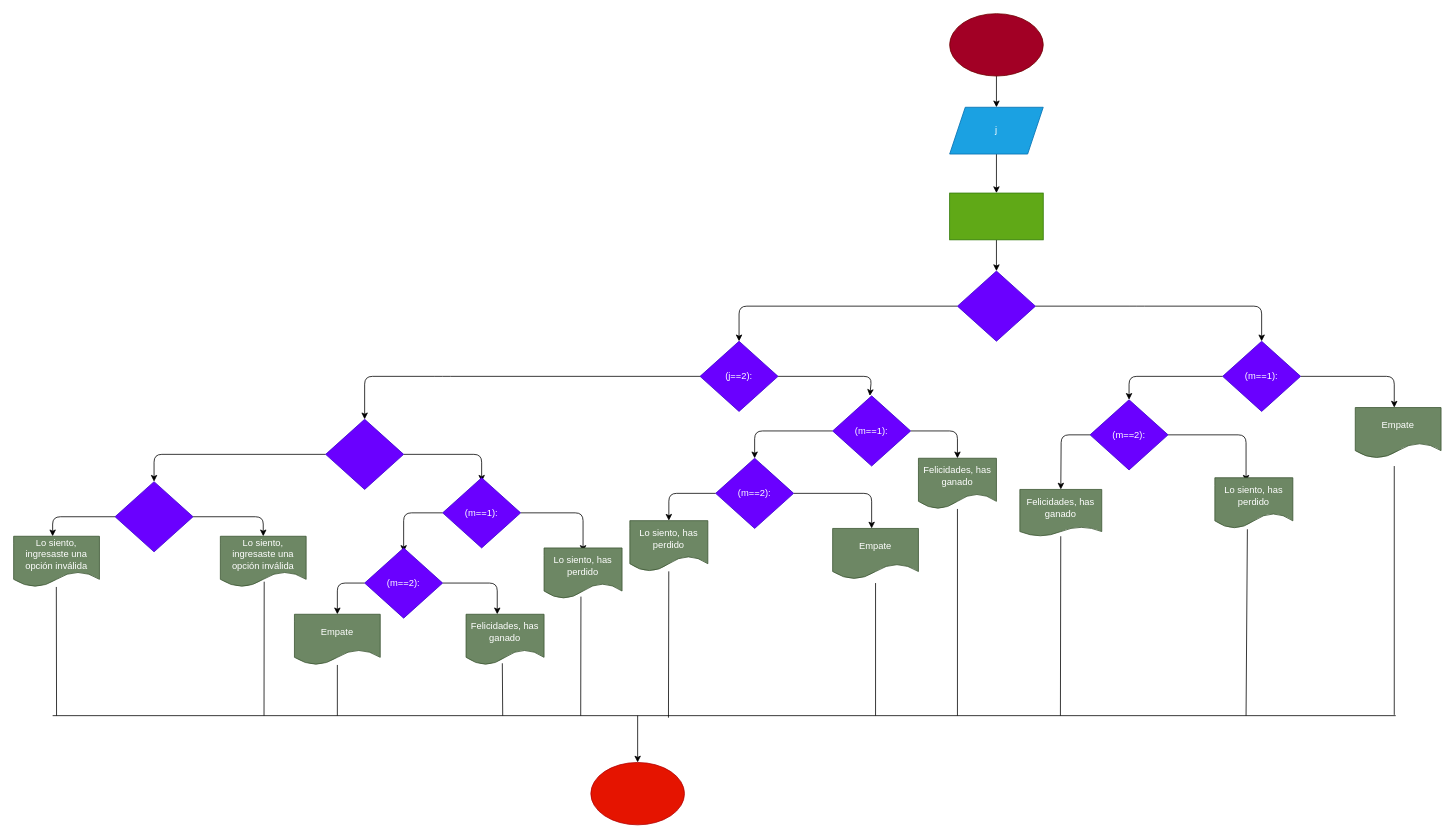
Some shapes in this 1455 by 838 pixel diagram are drawn without their labels. Here are the shapes that lost their labels. From the top down, the centre of each, then its label:
At (x=996, y=44): "Inicio".
At (x=996, y=216): "m = random.randint(1,3)".
At (x=996, y=305): "(j==1):".
At (x=364, y=453): "(j==3).".
At (x=153, y=516): "(j> 4):".
At (x=637, y=793): "Fin".
